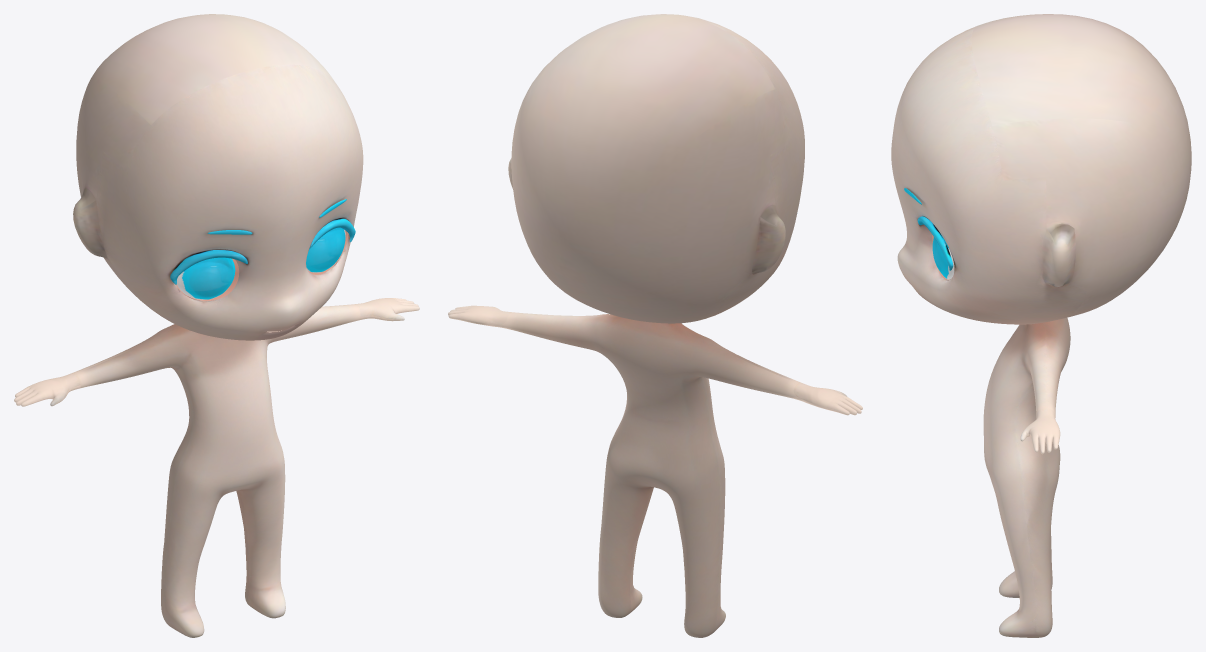
File: boy.glb
The picture shows the model from 3 angles, left to right: view 1: azimuth 30°, elevation 25°; view 2: azimuth 150°, elevation 25°; view 3: azimuth 270°, elevation 25°; orthographic projection. The views are drawn at different scales.
Visible parts, largest first — view 1: boy_texture; view 2: boy_texture; view 3: boy_texture.
Boxes of the visible parts, x1=… form: boy_texture: x1=14, y1=14, x2=419, y2=637; boy_texture: x1=448, y1=14, x2=862, y2=637; boy_texture: x1=891, y1=14, x2=1191, y2=637.
Bounding box in the file's own units: 1.12 × 1.55 × 0.717.
Materials: 1 (1 with a texture image).
